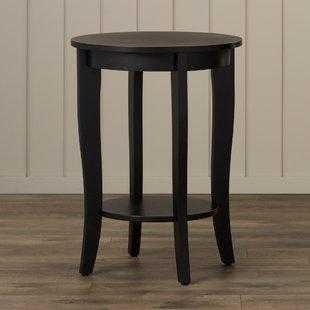obstacle: (71, 31, 241, 284)
